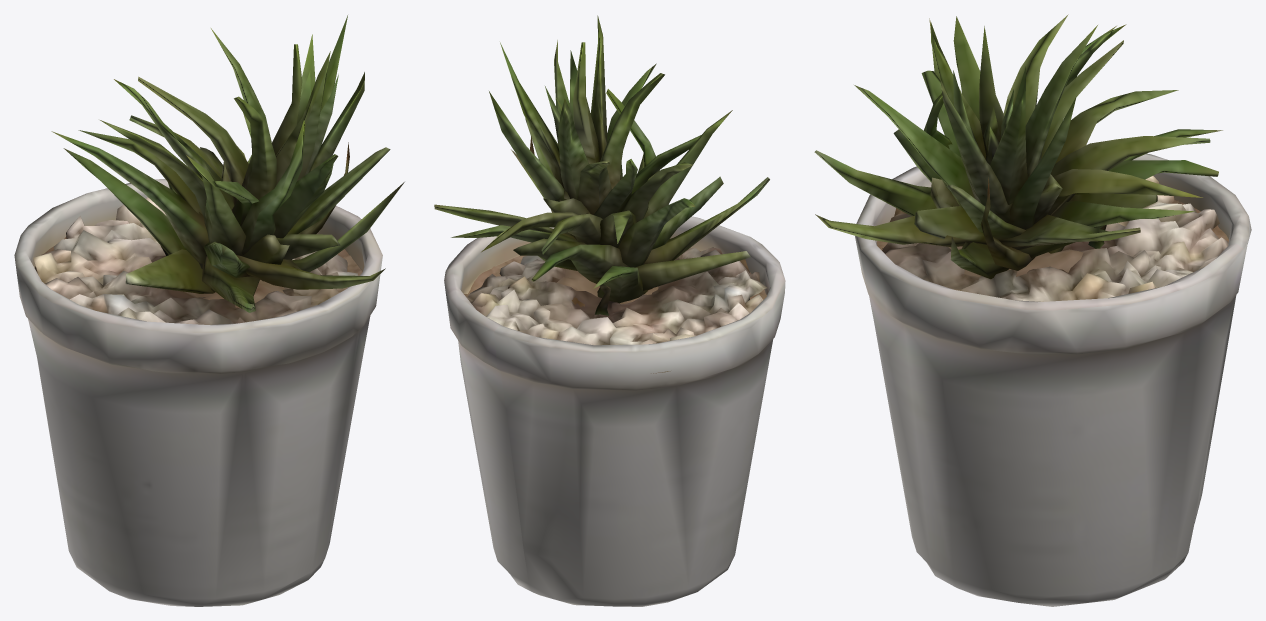
File: potted_plant_04.glb
3 views of the same model, side by side, from view 1: azimuth 30°, elevation 25°; view 2: azimuth 150°, elevation 25°; view 3: azimuth 270°, elevation 25° (orthographic). The views are drawn at different scales.
Visible parts, largest first — view 1: potted_plant_04_ground; view 2: potted_plant_04_ground; view 3: potted_plant_04_ground.
Boxes of the visible parts, x1,y1,x2,y2 form: potted_plant_04_ground: [14, 15, 404, 606]; potted_plant_04_ground: [434, 15, 785, 606]; potted_plant_04_ground: [814, 14, 1251, 606].
Bounding box in the file's own units: 0.1672 × 0.2672 × 0.1845.
1 material, 1 textured.
